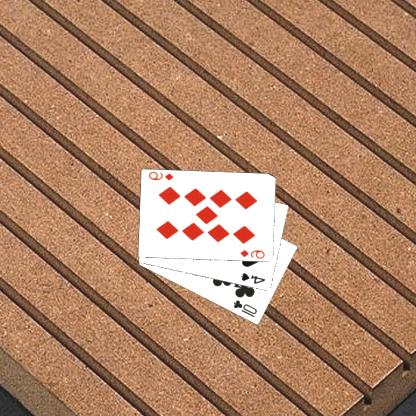10C: (232, 297, 260, 319)
4S: (240, 270, 268, 286)
9D: (239, 247, 268, 260), (148, 170, 176, 182)
